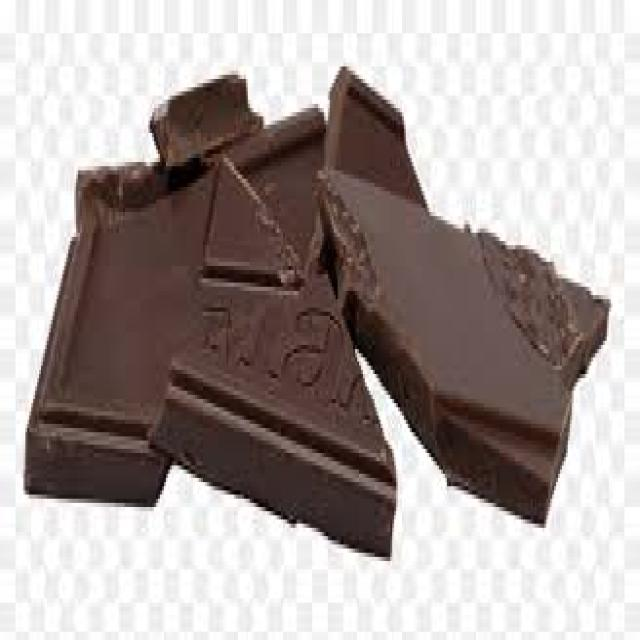Chocolate: (26, 58, 612, 558)
